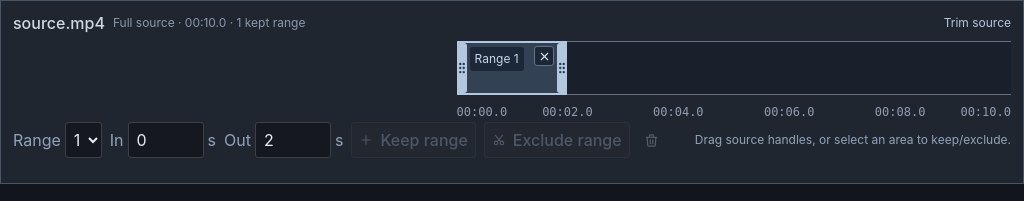
Test: source-context editor › restores an additional kept interval without changing the original range
Step 1. Press the mouse on the element with class "source-strip" → (734, 68), box [456,41,1011,95]
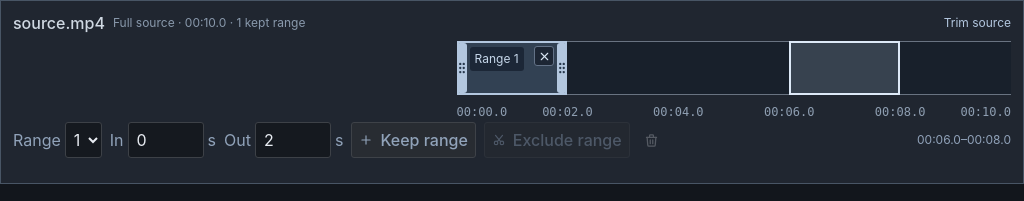
Step 2. Click the button "Keep range" → (414, 140), box [351,122,476,158]
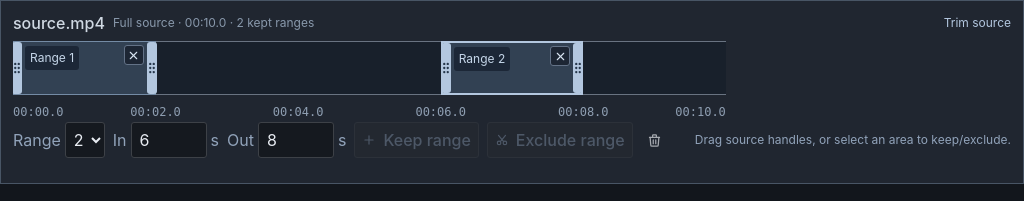
Expected: the text "Full source · 00:10.0 · 2 kept ranges" is shown, [113,14,314,32]
Expected: the number field named "Source trim in seconds" holds "6", [130,122,206,158]
Expected: the number field named "Source trim out seconds" holds "8", [258,122,334,158]
